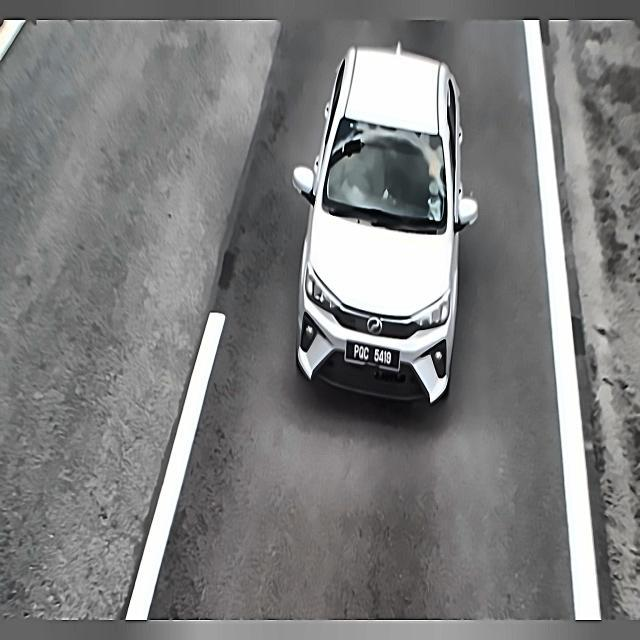car: (344, 334, 404, 374)
